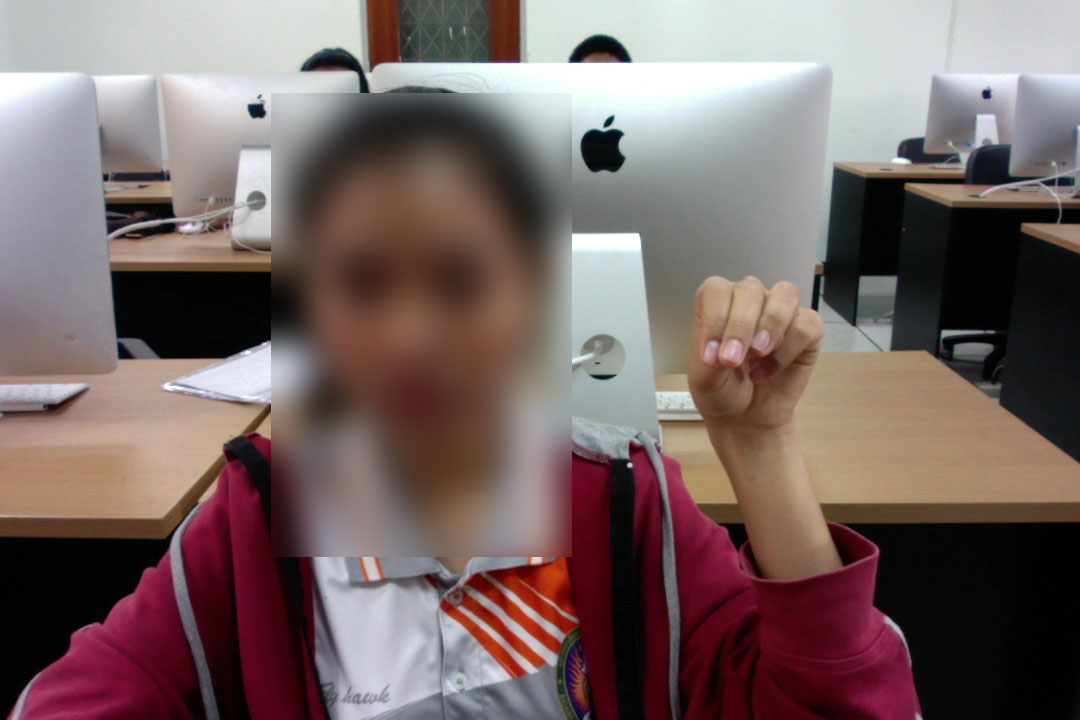mor: (685, 261, 828, 450)
